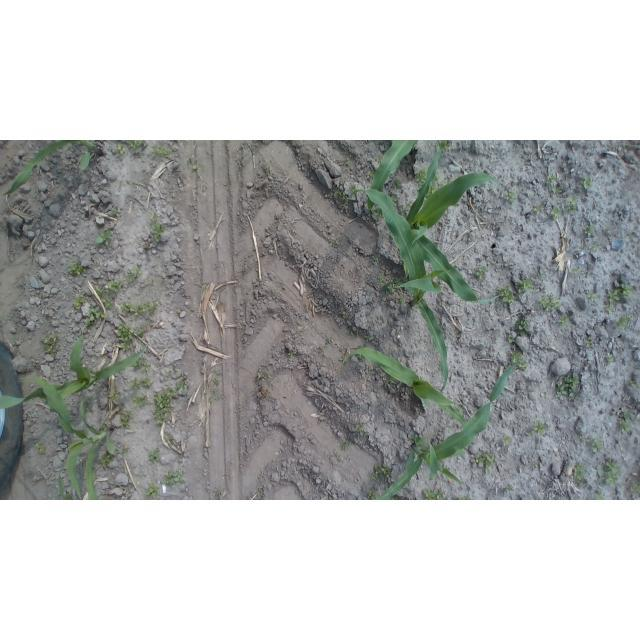Maize: (350, 187, 449, 394), (379, 365, 513, 500), (406, 142, 500, 308), (20, 373, 114, 499), (0, 330, 146, 410), (342, 348, 468, 428), (2, 141, 103, 196), (367, 140, 417, 213)
Weeds: (153, 387, 177, 426), (605, 283, 633, 313), (121, 300, 158, 316), (117, 321, 136, 352), (537, 292, 563, 312), (42, 331, 62, 357), (557, 375, 579, 398), (598, 462, 619, 485), (151, 212, 166, 243), (85, 308, 106, 329), (580, 434, 603, 453), (368, 464, 392, 482), (475, 452, 494, 474), (497, 284, 516, 305), (333, 184, 349, 208), (151, 144, 176, 158), (162, 471, 185, 486), (128, 377, 152, 391), (511, 351, 528, 370), (120, 405, 133, 429), (96, 228, 113, 246), (415, 168, 427, 193), (66, 261, 86, 276), (208, 380, 220, 404), (572, 461, 585, 483), (515, 279, 535, 293), (130, 357, 150, 371), (517, 318, 532, 336), (423, 488, 443, 501), (616, 315, 632, 331), (125, 268, 141, 284), (145, 483, 160, 500), (619, 412, 631, 433), (565, 196, 579, 213), (122, 140, 148, 149), (98, 452, 112, 468), (429, 173, 440, 193), (534, 420, 547, 436), (551, 205, 564, 220), (107, 280, 122, 293), (505, 188, 518, 202), (383, 284, 401, 294), (148, 448, 161, 461), (74, 295, 85, 310), (474, 267, 486, 280), (371, 208, 383, 221), (340, 440, 352, 452), (132, 395, 144, 407), (136, 324, 145, 340), (102, 296, 113, 309), (338, 354, 352, 364), (176, 377, 185, 392), (581, 176, 592, 188), (115, 144, 125, 157), (415, 437, 426, 448), (35, 443, 46, 454), (587, 291, 599, 301), (437, 140, 451, 148), (630, 483, 640, 494), (368, 488, 377, 500), (590, 240, 599, 252), (546, 174, 556, 184), (585, 225, 594, 236), (350, 187, 361, 196), (96, 286, 105, 297), (112, 207, 121, 217), (502, 436, 513, 444), (551, 187, 563, 194), (359, 428, 368, 437), (596, 492, 605, 501), (392, 180, 401, 189), (112, 391, 121, 400), (558, 315, 568, 323), (423, 193, 430, 204), (508, 335, 517, 343), (357, 354, 366, 362), (608, 356, 616, 365), (534, 204, 543, 212), (390, 196, 398, 205), (164, 436, 172, 445), (288, 350, 296, 358), (349, 331, 358, 338), (329, 235, 335, 245), (453, 333, 461, 340), (586, 340, 593, 348), (542, 268, 549, 276), (367, 172, 375, 179), (192, 164, 200, 171), (86, 396, 93, 404), (67, 492, 74, 500), (377, 276, 383, 285), (507, 485, 514, 492), (572, 267, 580, 273), (322, 343, 330, 349), (387, 376, 393, 384), (374, 156, 382, 162), (257, 372, 263, 380), (632, 381, 639, 387), (100, 425, 107, 431), (459, 496, 469, 500), (174, 368, 182, 373), (365, 335, 371, 341), (400, 296, 404, 304), (367, 365, 372, 371), (390, 496, 396, 501), (526, 431, 532, 436), (534, 461, 539, 467), (400, 208, 406, 213), (371, 256, 377, 261), (413, 304, 419, 309), (122, 447, 127, 453), (443, 179, 448, 185), (456, 408, 461, 413), (412, 144, 417, 149), (426, 269, 429, 276), (97, 494, 100, 500), (447, 424, 451, 428), (88, 291, 92, 295)
